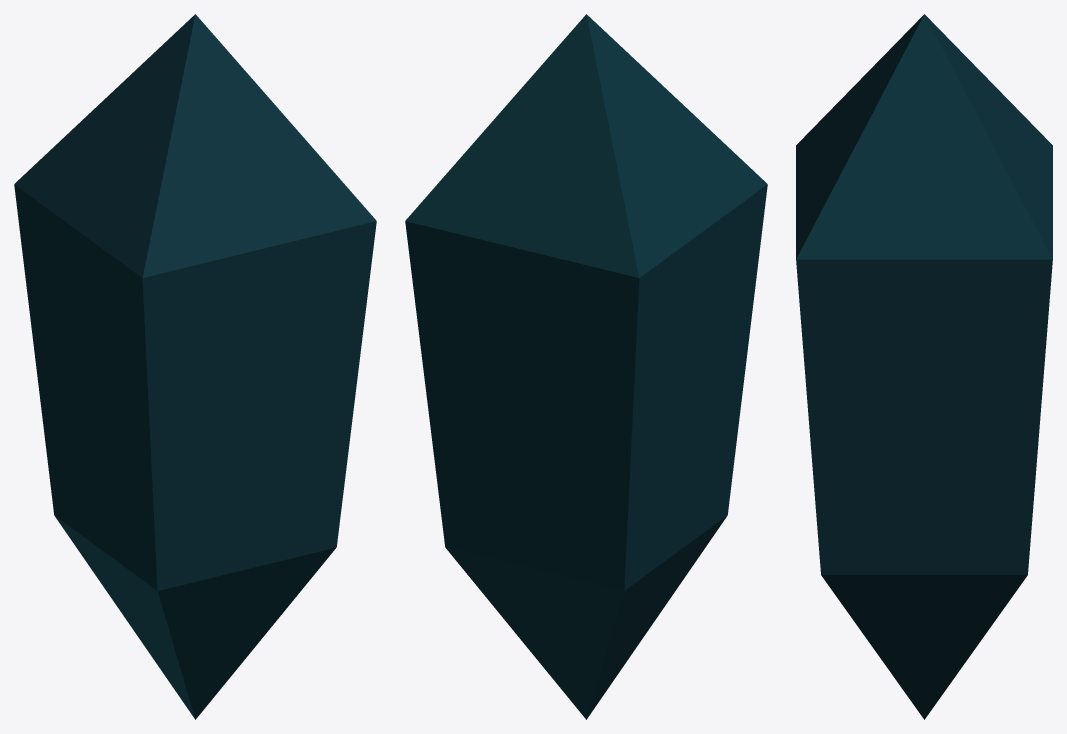
The model's file is left_leg_upper.obj.
3 renders of one model, left to right at view 1: azimuth 30°, elevation 25°; view 2: azimuth 150°, elevation 25°; view 3: azimuth 270°, elevation 25°, orthographic.
Visible parts, largest first — view 1: left_leg_upper; view 2: left_leg_upper; view 3: left_leg_upper.
Part boxes in pixels (<box>): left_leg_upper: <box>14,14,376,719</box>; left_leg_upper: <box>405,14,767,719</box>; left_leg_upper: <box>796,14,1052,719</box>.
Size of the model in its own units: 0.8654 by 2.49 by 0.8217.
